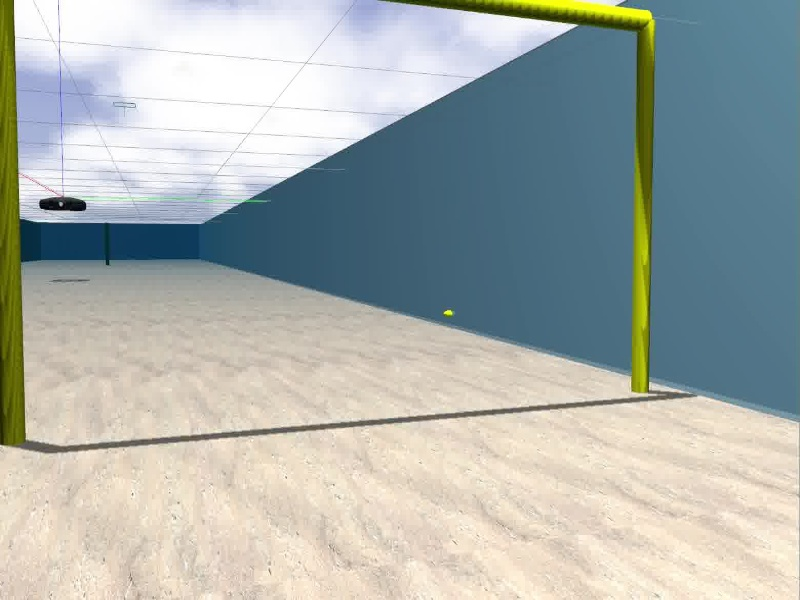gate: (1, 1, 655, 445)
